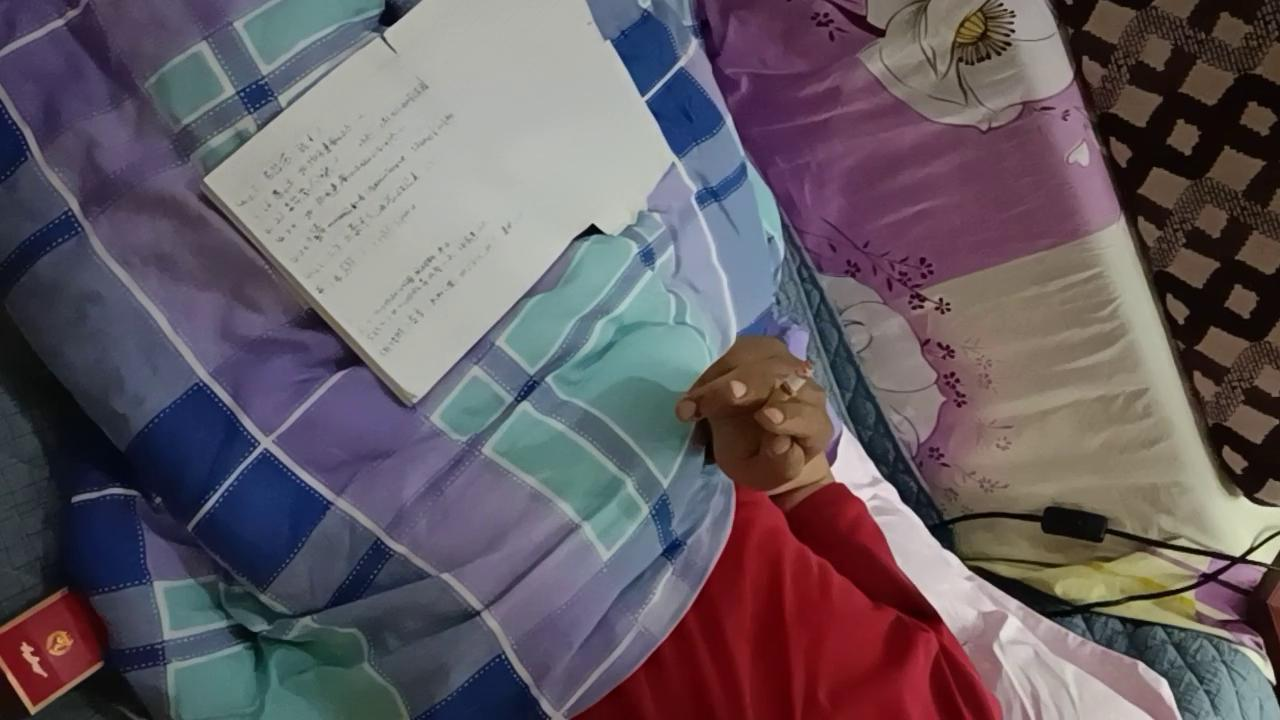smoke: (752, 360, 815, 426)
